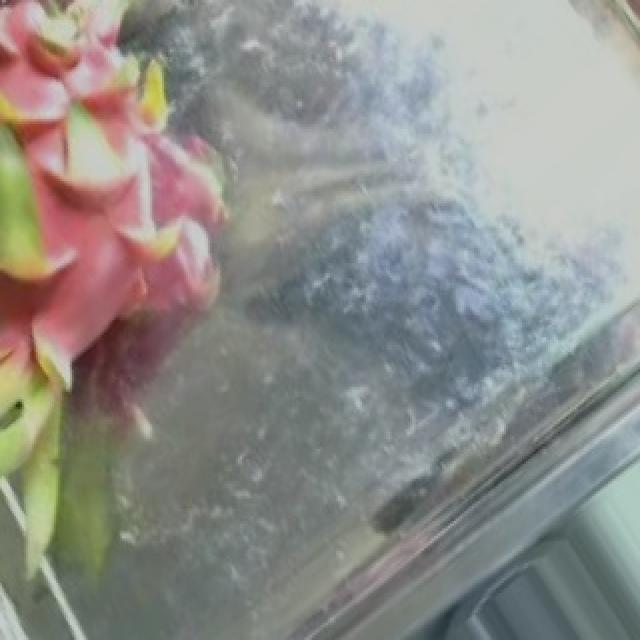fruit: (0, 0, 300, 402)
